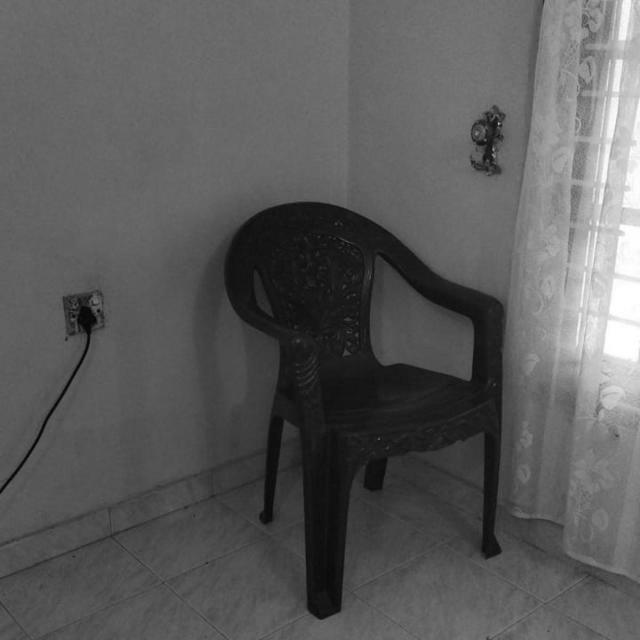chair: (214, 199, 512, 627)
